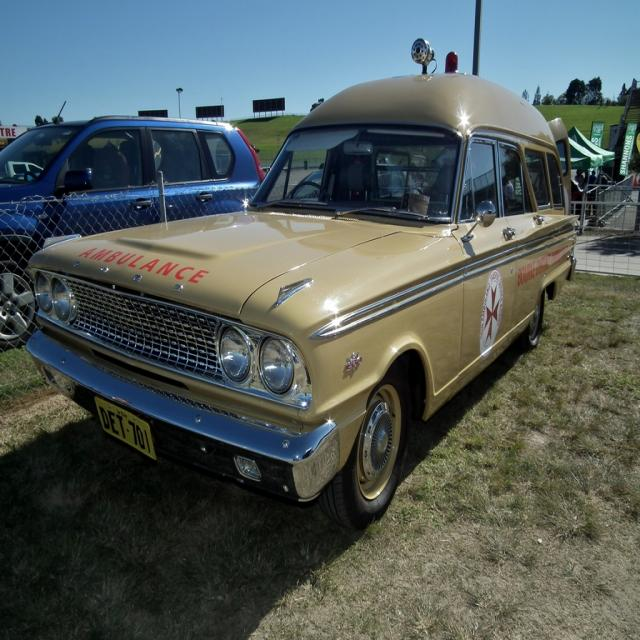car: (23, 39, 576, 529)
